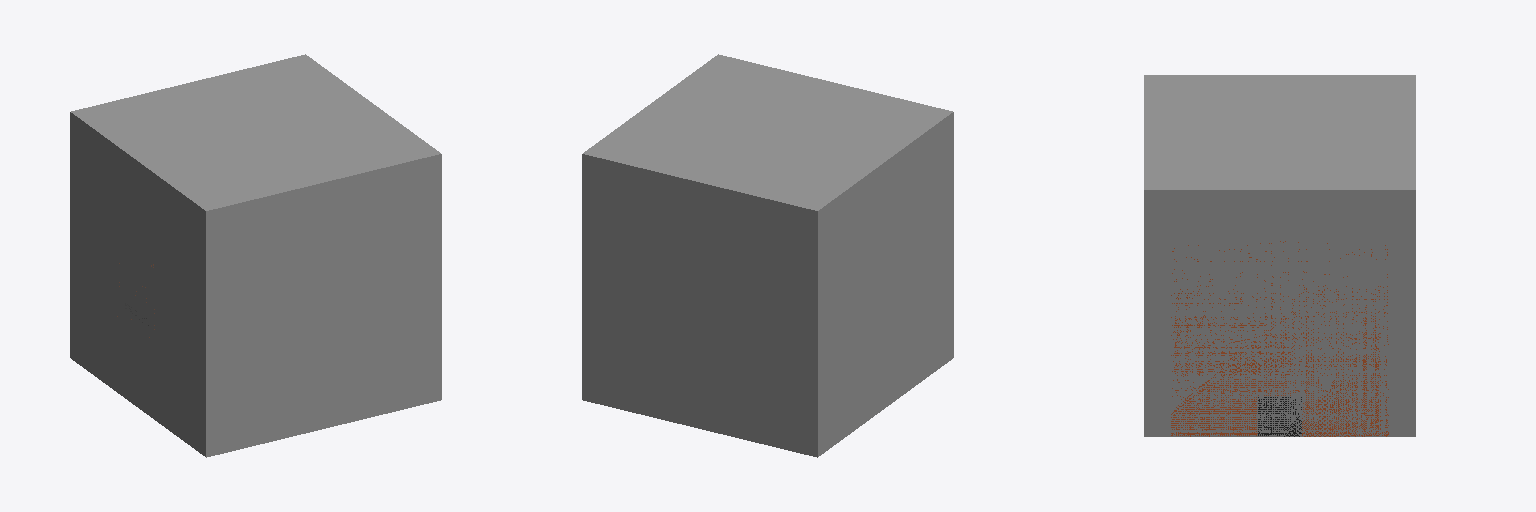
3 views of the same model, side by side, from view 1: azimuth 30°, elevation 25°; view 2: azimuth 150°, elevation 25°; view 3: azimuth 270°, elevation 25° (orthographic).
Visible parts, largest first — view 1: Minecraft_Block.001_Cube.002; view 2: Minecraft_Block.001_Cube.002; view 3: Minecraft_Block.001_Cube.002, Main.
Boxes of the visible parts, box(x1,y1,x2,y2) form: Minecraft_Block.001_Cube.002: box(70, 54, 441, 457); Minecraft_Block.001_Cube.002: box(582, 54, 953, 457); Minecraft_Block.001_Cube.002: box(1144, 75, 1415, 436); Main: box(1171, 241, 1388, 436).
Size of the model in its own units: 1 by 1 by 1.
2 materials, 1 textured.